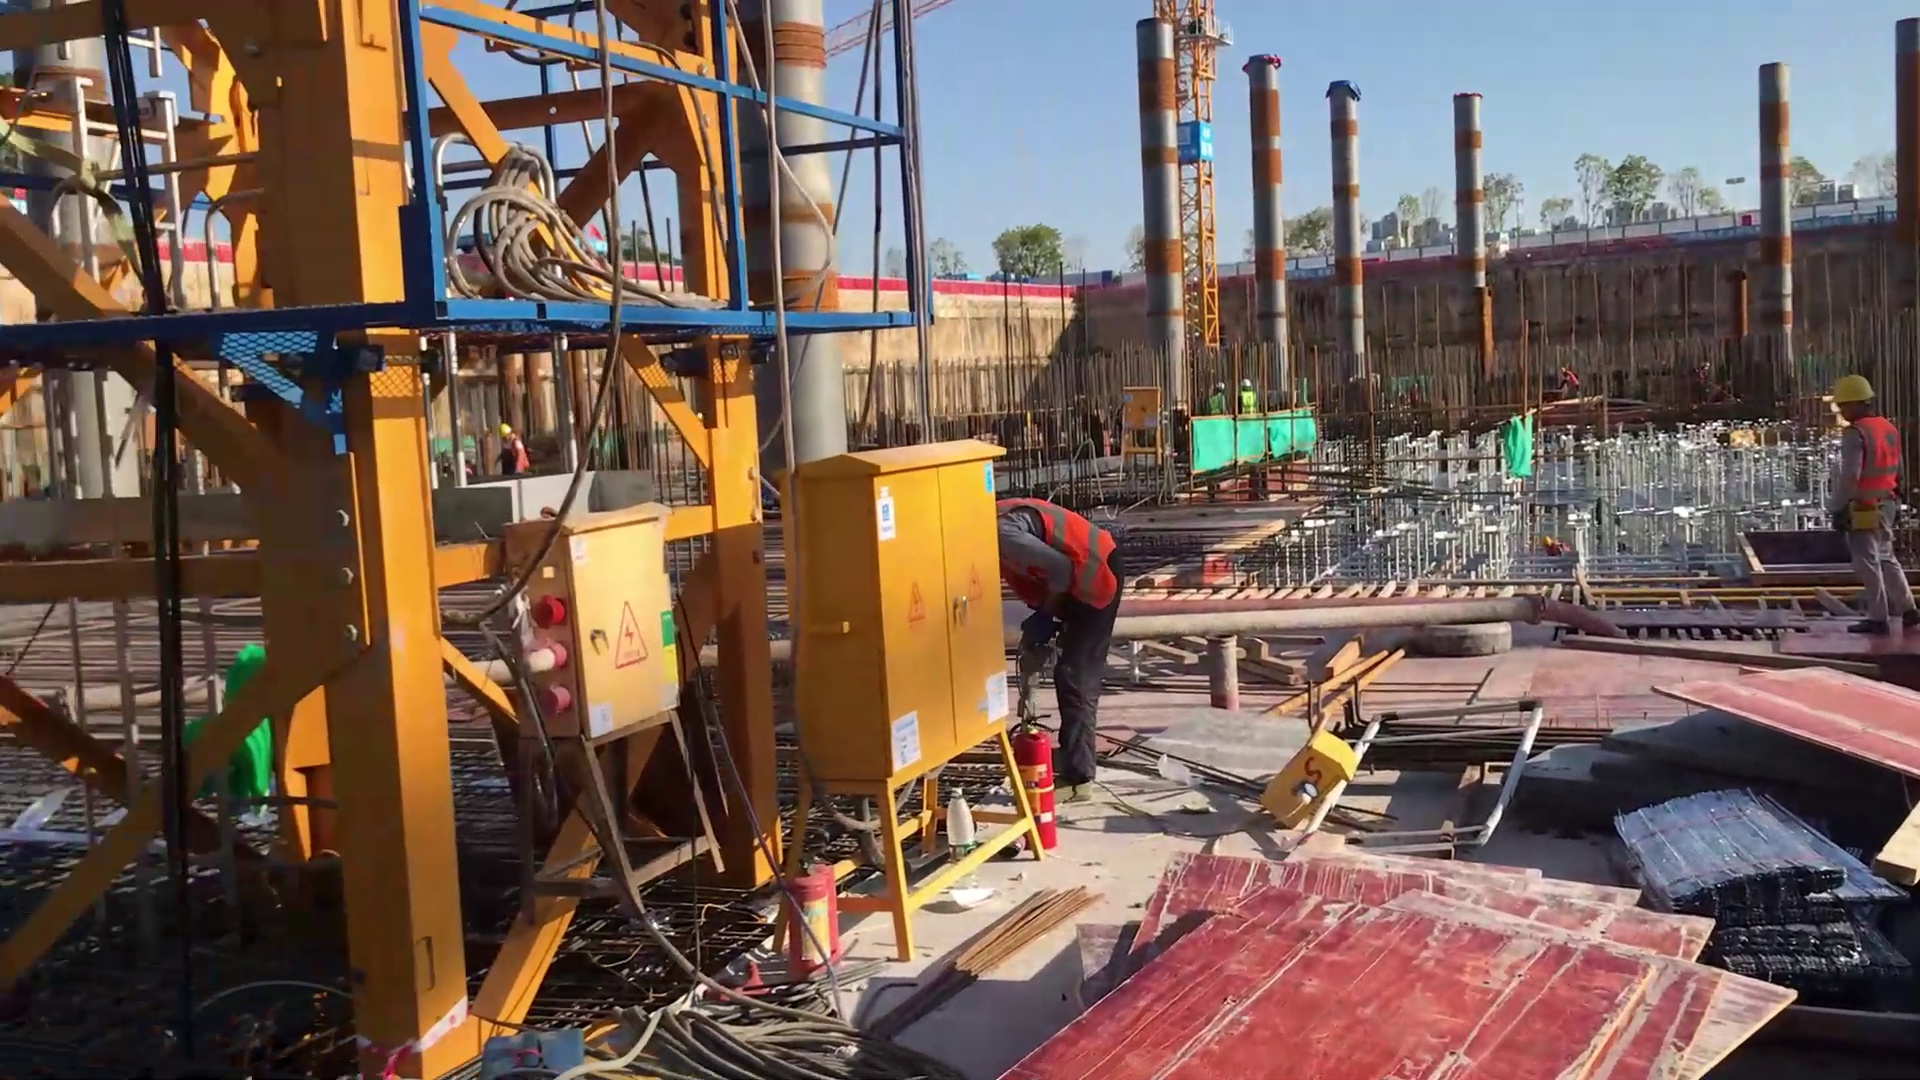ebox: (782, 419, 1025, 882), (512, 482, 708, 769), (1111, 378, 1165, 470)
fence: (934, 275, 1001, 298), (1025, 277, 1093, 295), (848, 278, 904, 291)
helmet: (1830, 372, 1881, 411)
person: (988, 487, 1128, 816), (1821, 368, 1920, 638), (1557, 364, 1581, 399), (1241, 380, 1258, 416)
slogan: (1179, 119, 1212, 162), (1790, 213, 1894, 227), (1676, 225, 1766, 238), (1287, 266, 1337, 280)
vest: (991, 488, 1126, 613), (1844, 407, 1907, 498), (1242, 393, 1257, 416), (1562, 371, 1579, 389)
